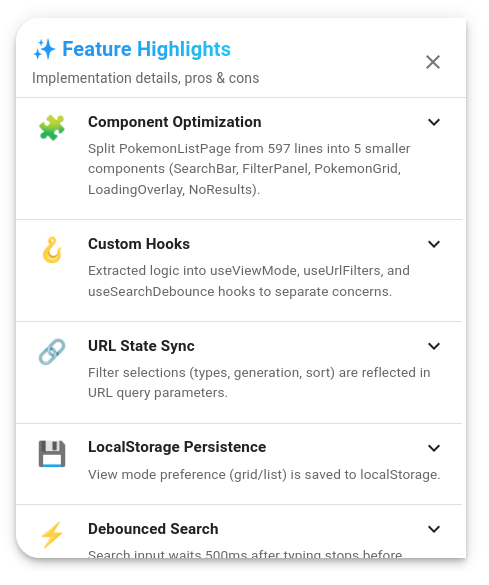
it: FeatureList › only expands one feature at a time
This screenshot has width=489, height=585.
Note: Expand first feature
Step 1. Click the text "Component Optimization" → (175, 122), box [88,110,446,134]
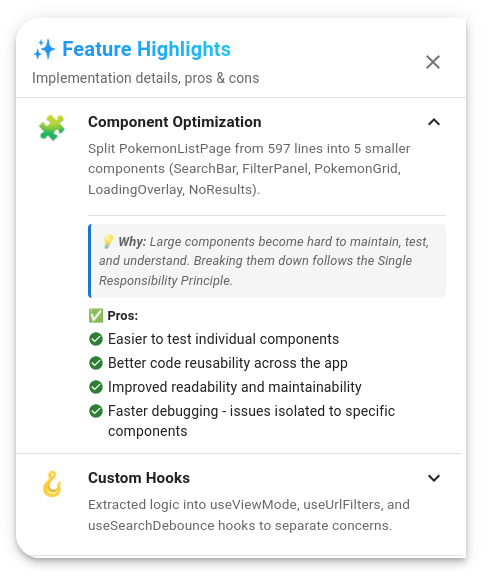
Note: Expand second feature
Step 2. Click the text "Custom Hooks" → (139, 478), box [88,466,446,490]
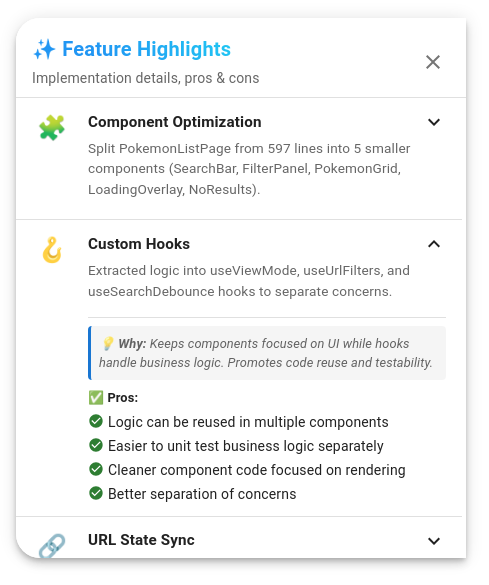
Expected: the text "Keeps components focused on UI" is shown, [99,336,433,370]
